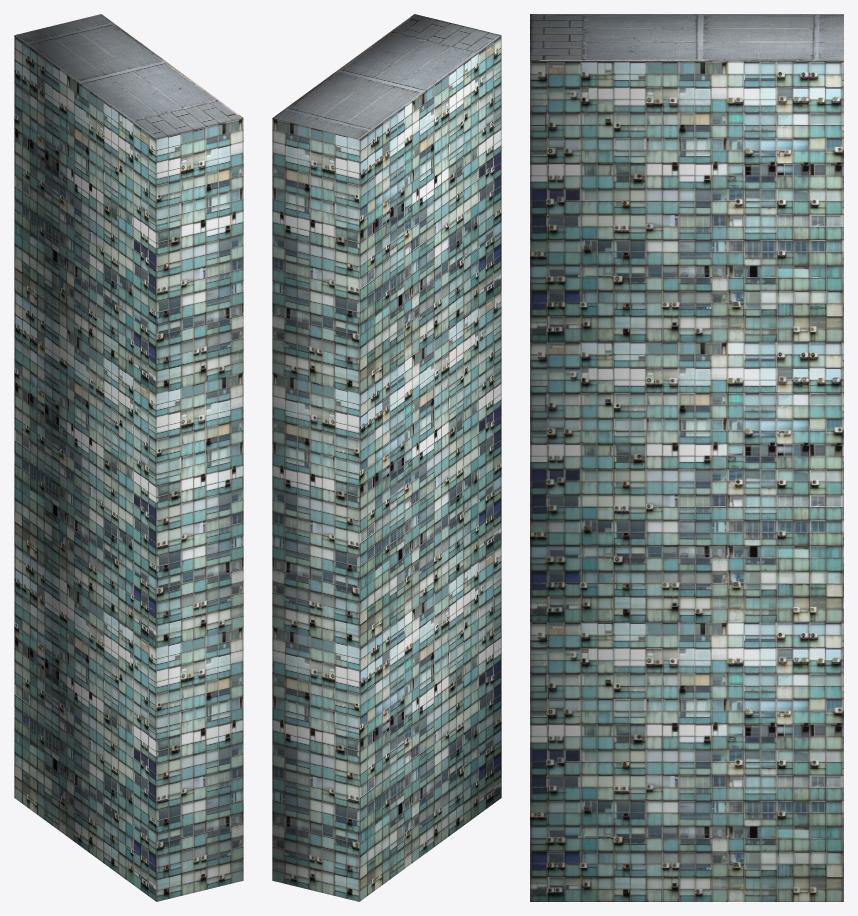
The model's file is building5.obj.
3 views of the same model, side by side, from view 1: azimuth 30°, elevation 25°; view 2: azimuth 150°, elevation 25°; view 3: azimuth 270°, elevation 25° (orthographic). The views are drawn at different scales.
Size of the model in its own units: 11.67 by 97.62 by 33.
Materials: 1 (1 with a texture image).
